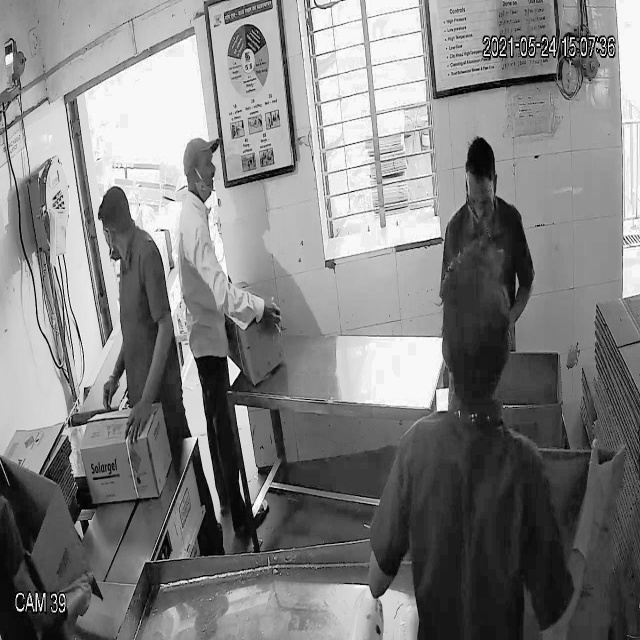Sin_gafas: (183, 150, 218, 180)
